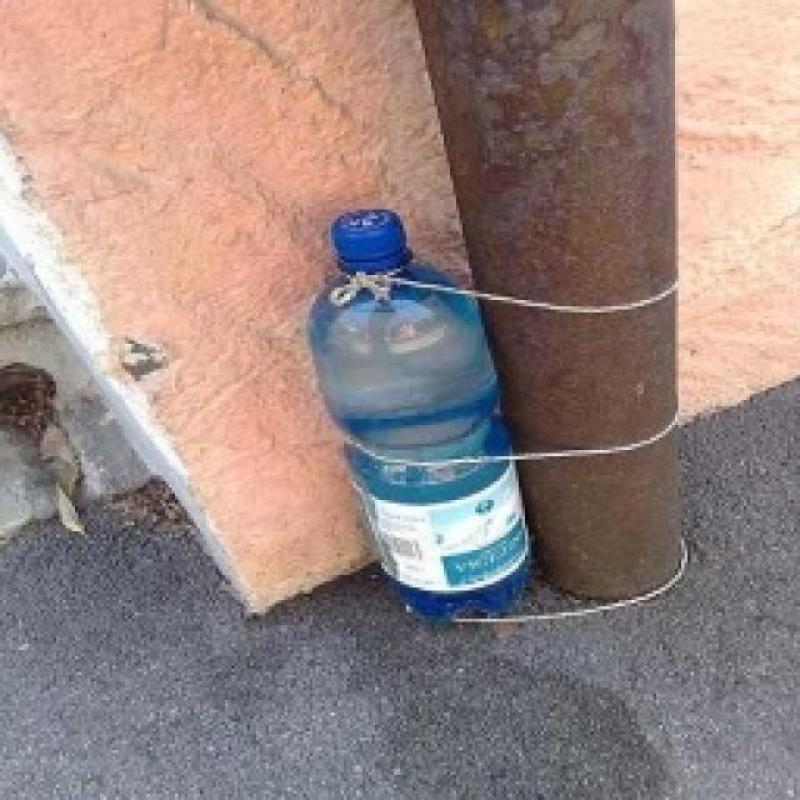botella: (304, 211, 536, 627)
